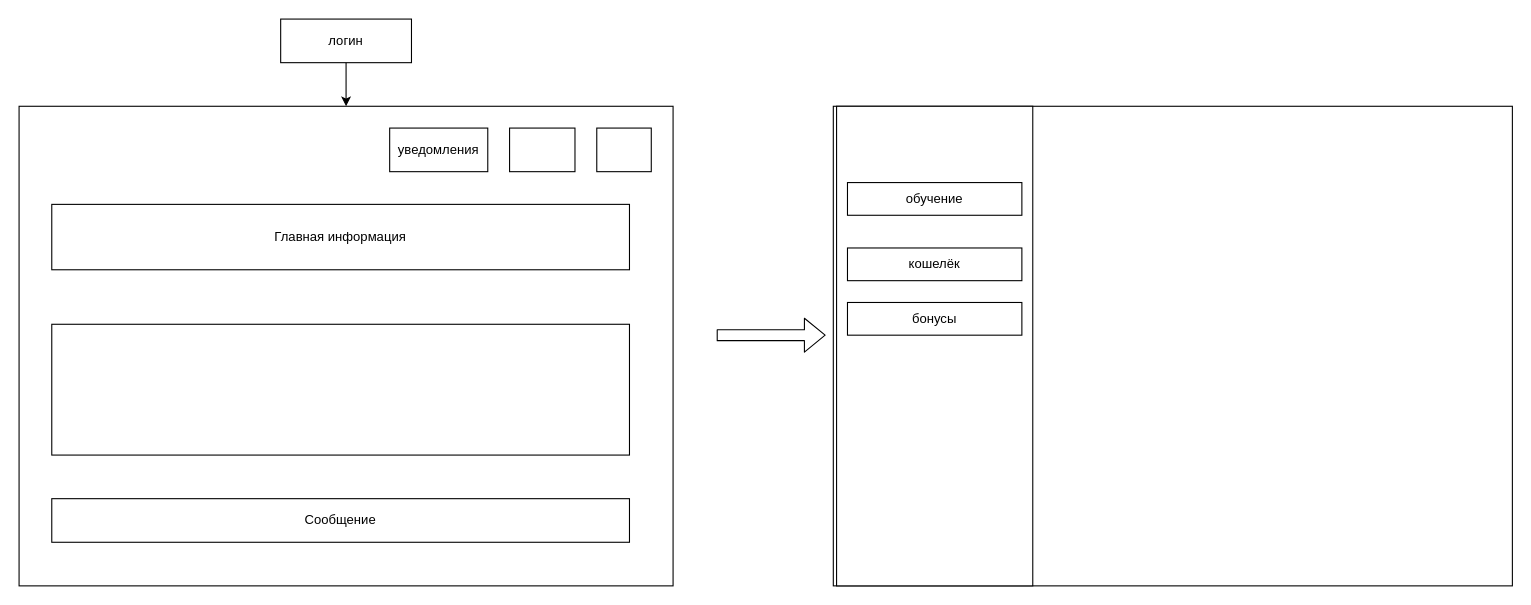
Some shapes in this 1531 by 605 pixel diagram are drawn without their labels. The centre of each missing label's shape, as x and y in pixels:
выход: point 623,149
График занятий: point 340,389
кабинет: point 541,149
